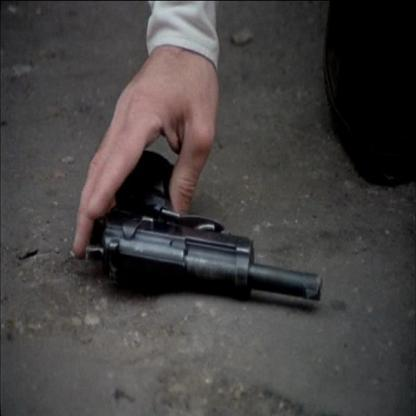gun: (110, 123, 327, 342)
